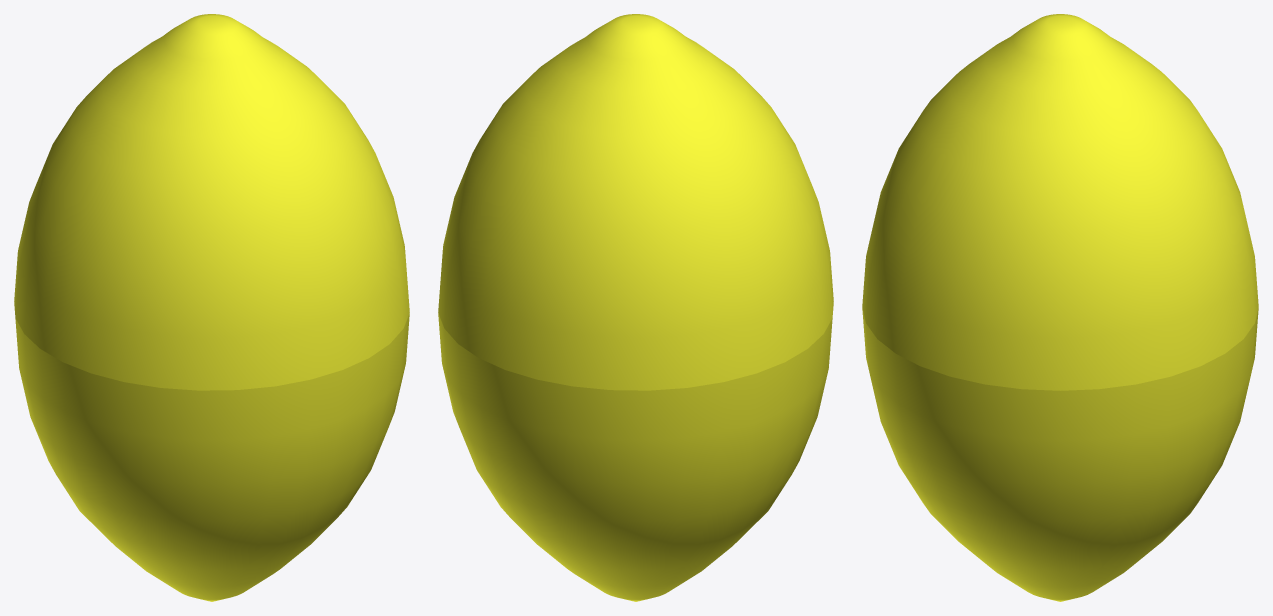
Rendered from Fruit_Lemon_Sliced.fbx.
3 views of the same model, side by side, from view 1: azimuth 30°, elevation 25°; view 2: azimuth 150°, elevation 25°; view 3: azimuth 270°, elevation 25° (orthographic).
Visible parts, largest first — view 1: top, bottom; view 2: top, bottom; view 3: top, bottom.
Part boxes in pixels (left/top/right/bottom): top: left=14, top=14, right=409, bottom=390; bottom: left=15, top=313, right=409, bottom=601; top: left=438, top=14, right=833, bottom=390; bottom: left=438, top=313, right=832, bottom=601; top: left=862, top=14, right=1258, bottom=390; bottom: left=862, top=308, right=1258, bottom=601.
Bounding box in the file's own units: 200 × 323 × 200.
